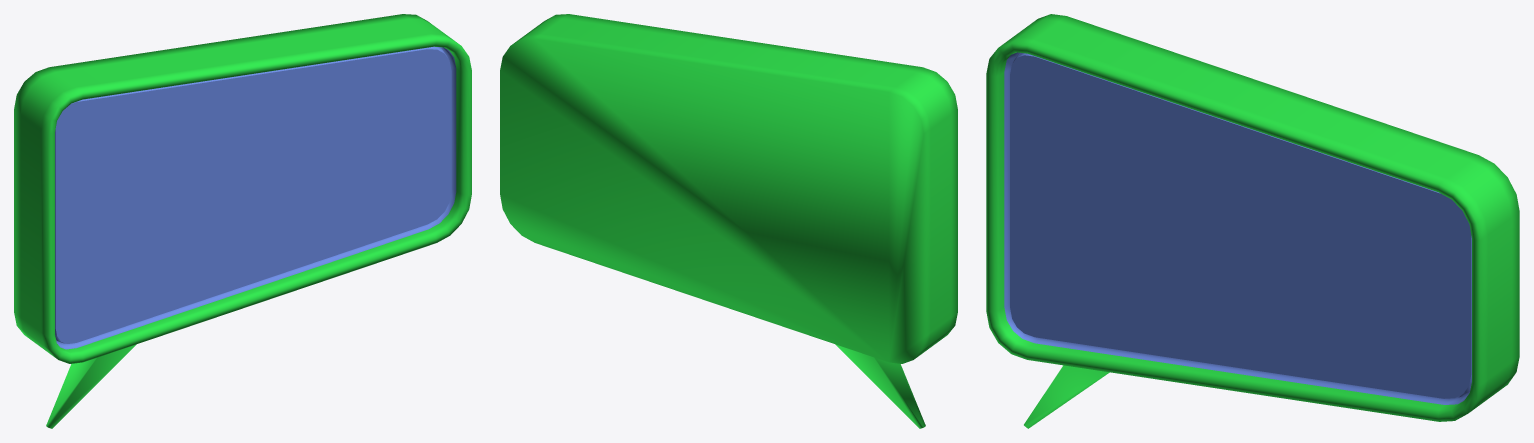
The model's file is DBModel.fbx.
3 renders of one model, left to right at view 1: azimuth 30°, elevation 25°; view 2: azimuth 150°, elevation 25°; view 3: azimuth 330°, elevation 25°, orthographic. The views are drawn at different scales.
Visible parts, largest first — view 1: DialogueboxAlt; view 2: DialogueboxAlt; view 3: DialogueboxAlt.
Part boxes in pixels (left/top/right/bottom): DialogueboxAlt: left=14, top=14, right=471, bottom=428; DialogueboxAlt: left=500, top=14, right=957, bottom=428; DialogueboxAlt: left=986, top=14, right=1519, bottom=428.
Size of the model in its own units: 3.21 by 2.49 by 0.446.
